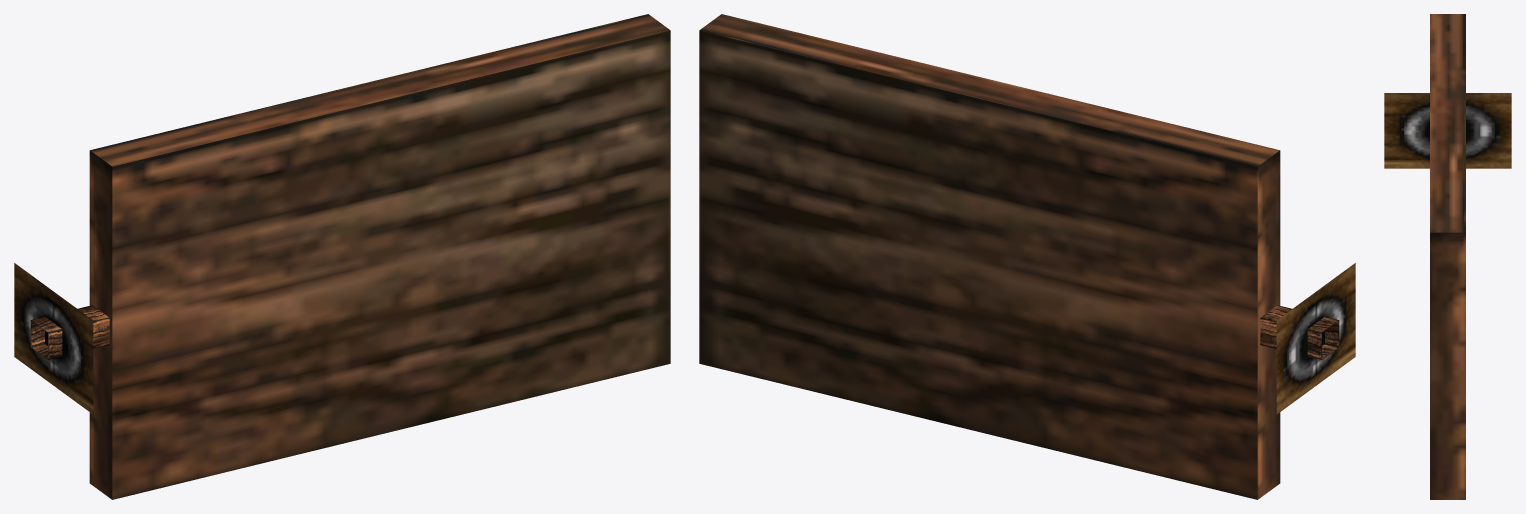
The model's file is INST_WH_FLIPPADDLE_01.fbx.
3 views of the same model, side by side, from view 1: azimuth 30°, elevation 25°; view 2: azimuth 150°, elevation 25°; view 3: azimuth 270°, elevation 25° (orthographic). The views are drawn at different scales.
Parts seen in each view (by area): view 1: INST_WH_FLIPPADDLE_01; view 2: INST_WH_FLIPPADDLE_01; view 3: INST_WH_FLIPPADDLE_01.
Boxes of the visible parts, bbox=[...] form: INST_WH_FLIPPADDLE_01: bbox=[14, 14, 670, 499]; INST_WH_FLIPPADDLE_01: bbox=[699, 14, 1355, 499]; INST_WH_FLIPPADDLE_01: bbox=[1384, 14, 1511, 499].
Bounding box in the file's own units: 19559 × 10043 × 4326.
3 materials, 3 textured.
